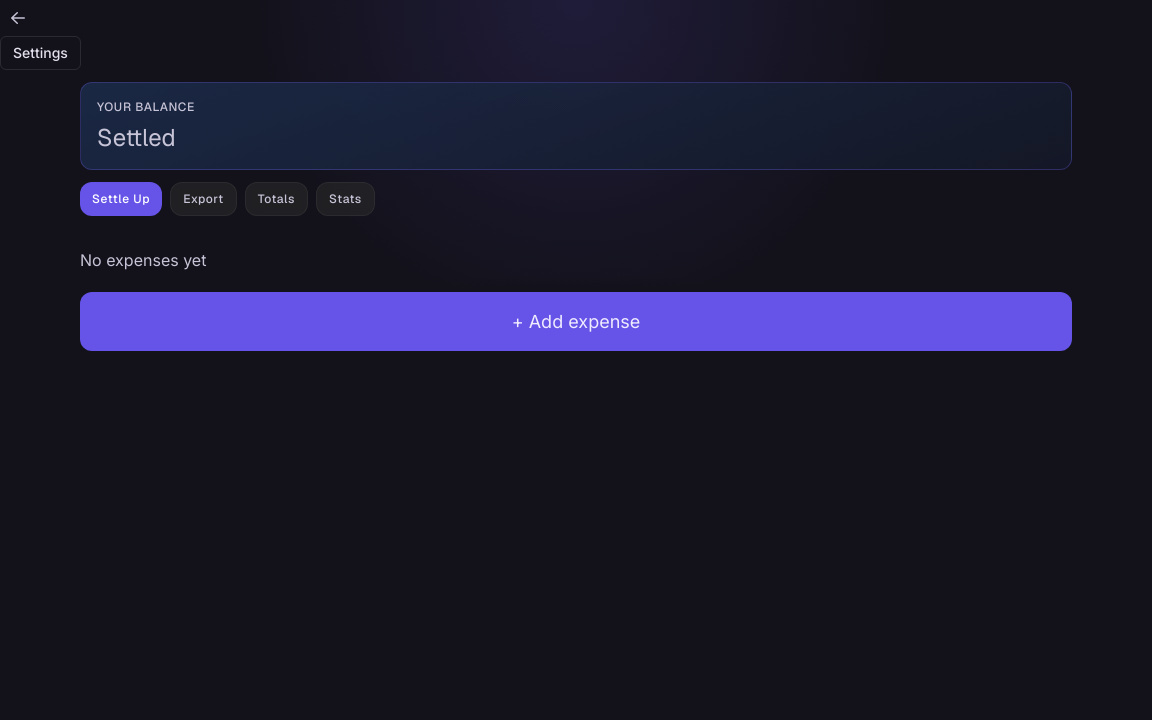
Test: GroupDetailView overlay routes › clicking Totals pushes ?overlay=totals and renders the Totals dialog
The width and height of the screenshot is (1152, 720).
Step 1. Click the button "Totals" → (276, 199), box [245, 182, 308, 216]
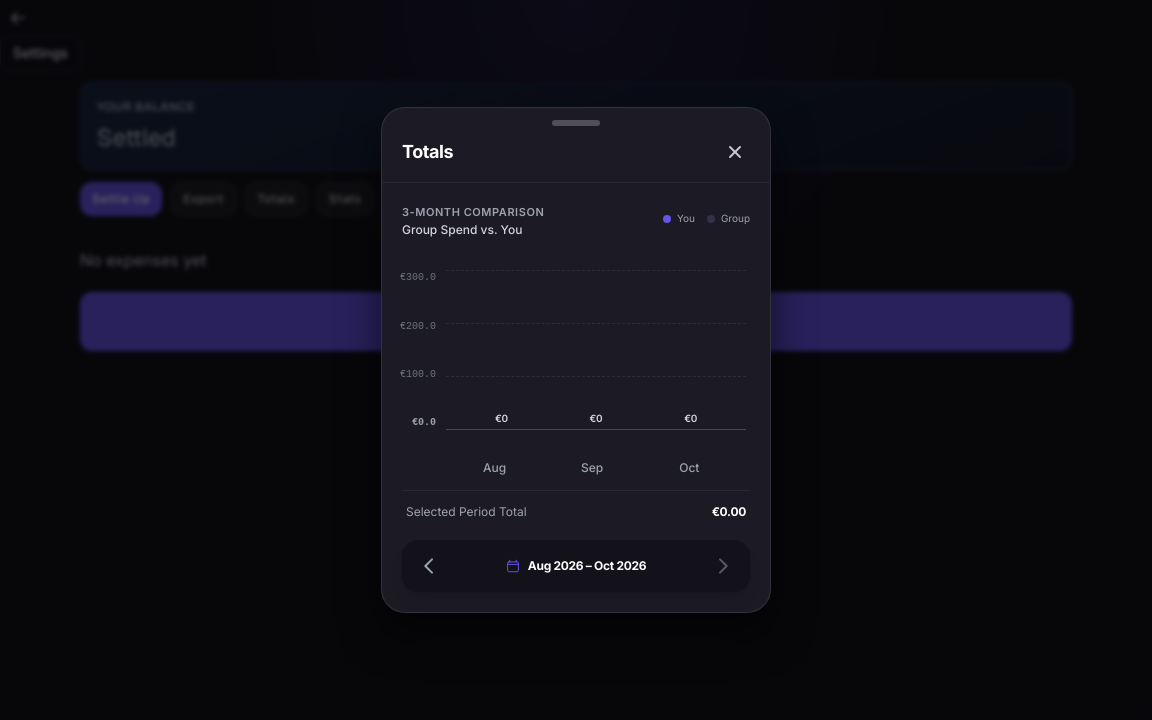
Result: the dialog named "Totals" is shown at [381, 107, 771, 613]
